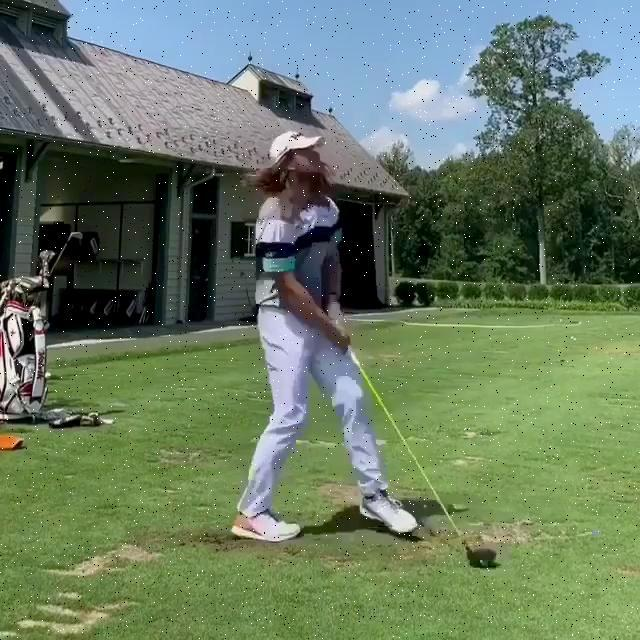golf club-handle: (348, 344, 498, 566)
golf club-head: (467, 548, 498, 566)
